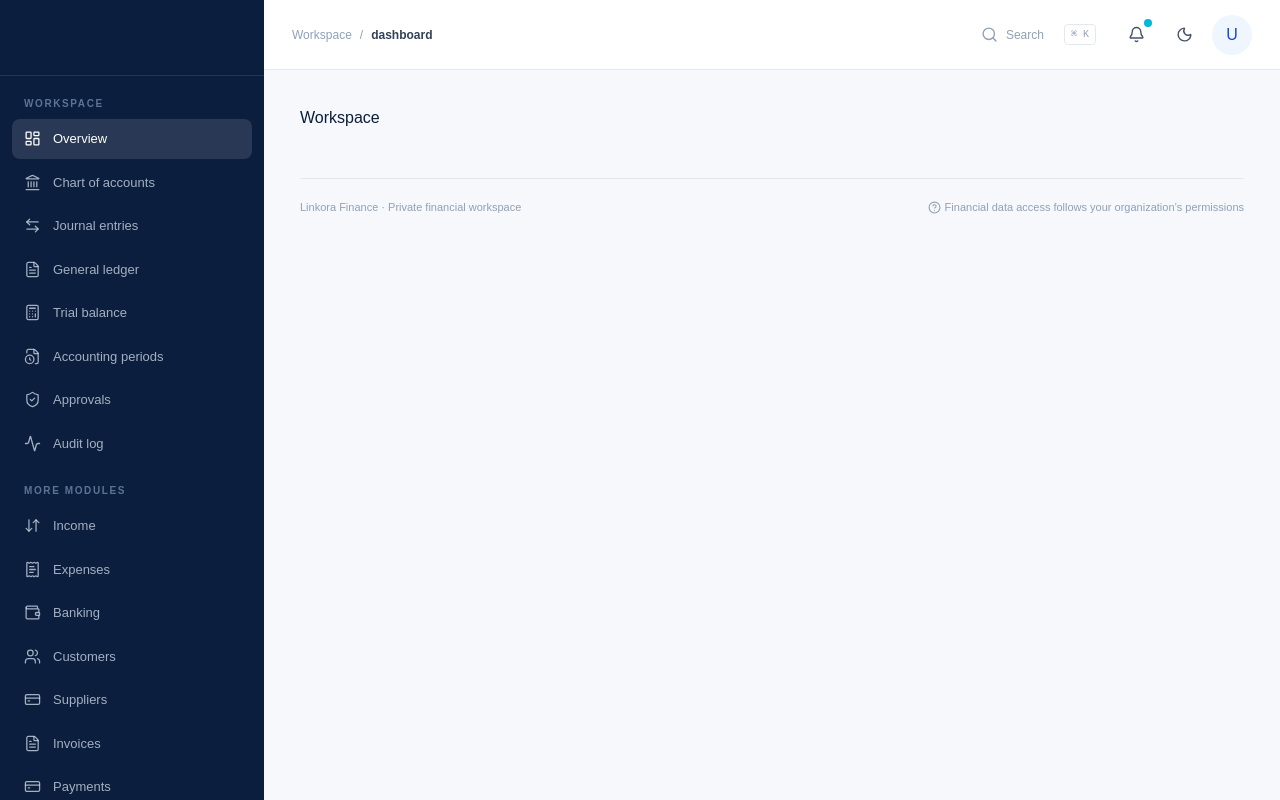
Test case: workspace shell › shows database-backed approval items in the workflow inbox
The image size is (1280, 800).
Click the button named "Workflow inbox, 1 items" at (1136, 34), box [1116, 14, 1156, 54]
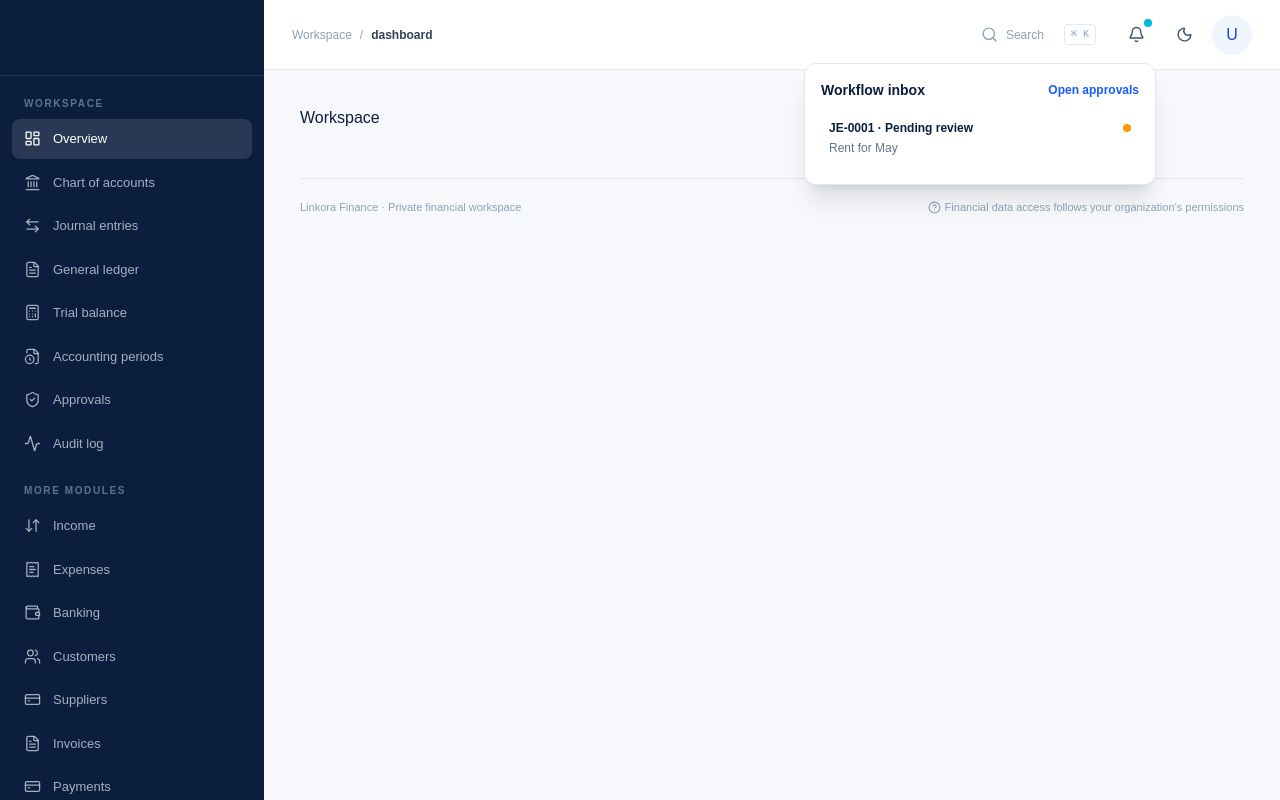
Now the dialog "Workflow inbox" is shown, box [804, 62, 1156, 184]
Now the text "JE-0001 · Pending review" is shown, box [829, 120, 973, 136]
